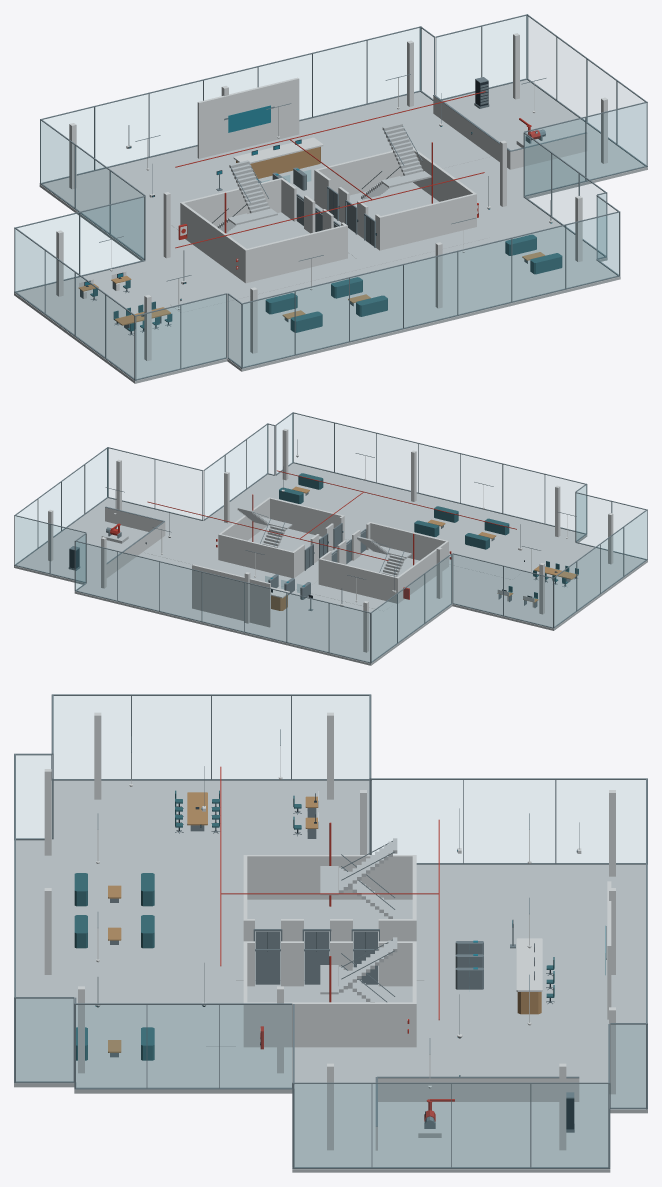
3 views of the same model, one above another, from view 1: azimuth 30°, elevation 25°; view 2: azimuth 150°, elevation 25°; view 3: azimuth 270°, elevation 25° (orthographic). The views are drawn at different scales.
Parts seen in each view (by area): view 1: T1_F01_SLAB, T1_F01_WHITE, T1_F01_GLASS_S, T1_F01_GLASS_N, T1_F01_STEEL, T1_F01_GLASS_W, T1_F01_GLASS_E, T1_F01_FABRIC, T1_F01_WOOD, T1_F01_RED, T1_F01_SCREEN, T1_F01_DARK; view 2: T1_F01_SLAB, T1_F01_WHITE, T1_F01_GLASS_N, T1_F01_GLASS_S, T1_F01_STEEL, T1_F01_GLASS_W, T1_F01_GLASS_E, T1_F01_FABRIC, T1_F01_RED, T1_F01_WOOD; view 3: T1_F01_SLAB, T1_F01_GLASS_E, T1_F01_GLASS_W, T1_F01_WHITE, T1_F01_STEEL, T1_F01_FABRIC, T1_F01_WOOD, T1_F01_RED.
Part boxes in pixels (<box>): T1_F01_SLAB: <box>14,80,647,383</box>; T1_F01_WHITE: <box>56,33,607,361</box>; T1_F01_GLASS_S: <box>137,104,645,377</box>; T1_F01_GLASS_N: <box>18,17,526,274</box>; T1_F01_STEEL: <box>14,14,647,380</box>; T1_F01_GLASS_W: <box>15,121,240,377</box>; T1_F01_GLASS_E: <box>421,17,642,255</box>; T1_F01_FABRIC: <box>90,234,562,332</box>; T1_F01_WOOD: <box>78,147,544,325</box>; T1_F01_RED: <box>175,91,540,269</box>; T1_F01_SCREEN: <box>85,105,551,299</box>; T1_F01_DARK: <box>84,80,550,333</box>; T1_F01_SLAB: <box>14,463,647,665</box>; T1_F01_WHITE: <box>48,428,613,652</box>; T1_F01_GLASS_N: <box>15,517,552,661</box>; T1_F01_GLASS_S: <box>108,414,642,545</box>; T1_F01_STEEL: <box>14,412,647,663</box>; T1_F01_GLASS_W: <box>372,486,646,660</box>; T1_F01_GLASS_E: <box>18,414,292,541</box>; T1_F01_FABRIC: <box>279,473,578,598</box>; T1_F01_RED: <box>110,470,516,599</box>; T1_F01_WOOD: <box>271,486,577,610</box>; T1_F01_SLAB: <box>14,780,647,1172</box>; T1_F01_GLASS_E: <box>16,999,645,1166</box>; T1_F01_GLASS_W: <box>16,696,645,862</box>; T1_F01_WHITE: <box>44,712,615,1150</box>; T1_F01_STEEL: <box>14,694,647,1168</box>; T1_F01_FABRIC: <box>74,790,554,1060</box>; T1_F01_WOOD: <box>108,792,541,1052</box>; T1_F01_RED: <box>220,766,454,1121</box>.
Size of the model in its own units: 55.47 by 6 by 38.19.
